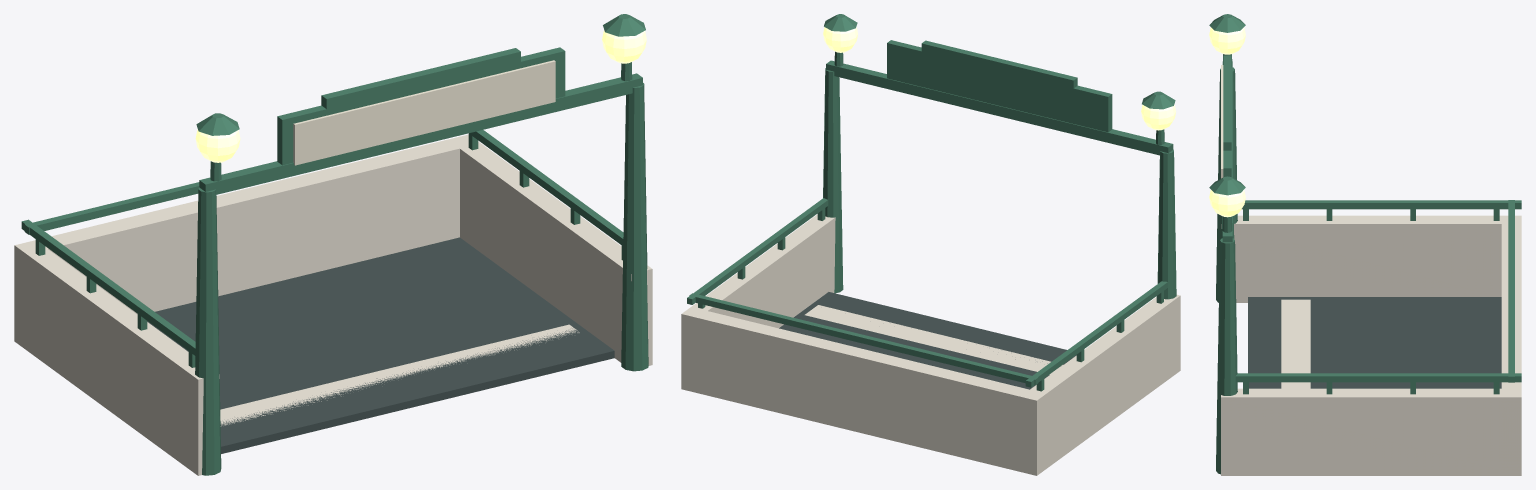
The model's file is Paris_MetroEntrance.fbx.
3 renders of one model, left to right at view 1: azimuth 30°, elevation 25°; view 2: azimuth 150°, elevation 25°; view 3: azimuth 270°, elevation 25°, orthographic. The views are drawn at different scales.
Parts seen in each view (by area): view 1: Paris_MetroEntrance; view 2: Paris_MetroEntrance; view 3: Paris_MetroEntrance.
Boxes of the visible parts, x1,y1,x2,y2 form: Paris_MetroEntrance: (14,14,652,475); Paris_MetroEntrance: (681,14,1180,475); Paris_MetroEntrance: (1209,14,1521,475).
Bounding box in the file's own units: 5.14 × 3.81 × 3.74.
